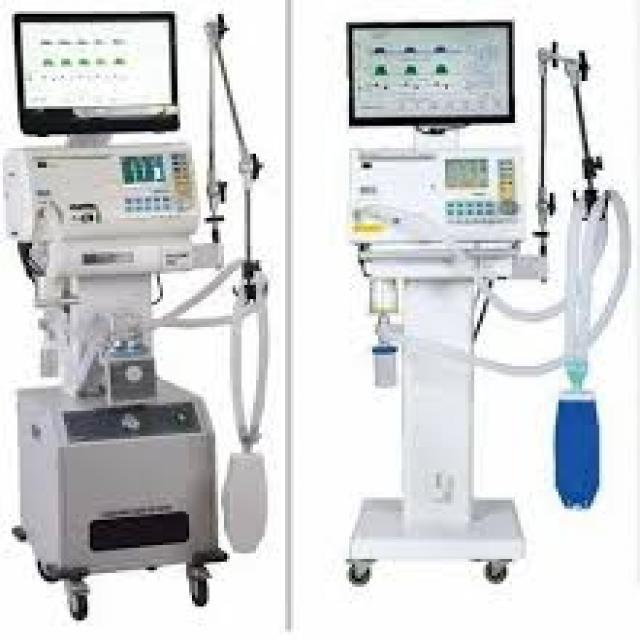ventilator: (326, 46, 635, 588), (28, 23, 282, 602)
